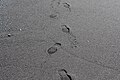human_foot_print: (47, 44, 63, 53), (60, 69, 72, 80), (60, 1, 72, 9), (63, 23, 70, 35)
